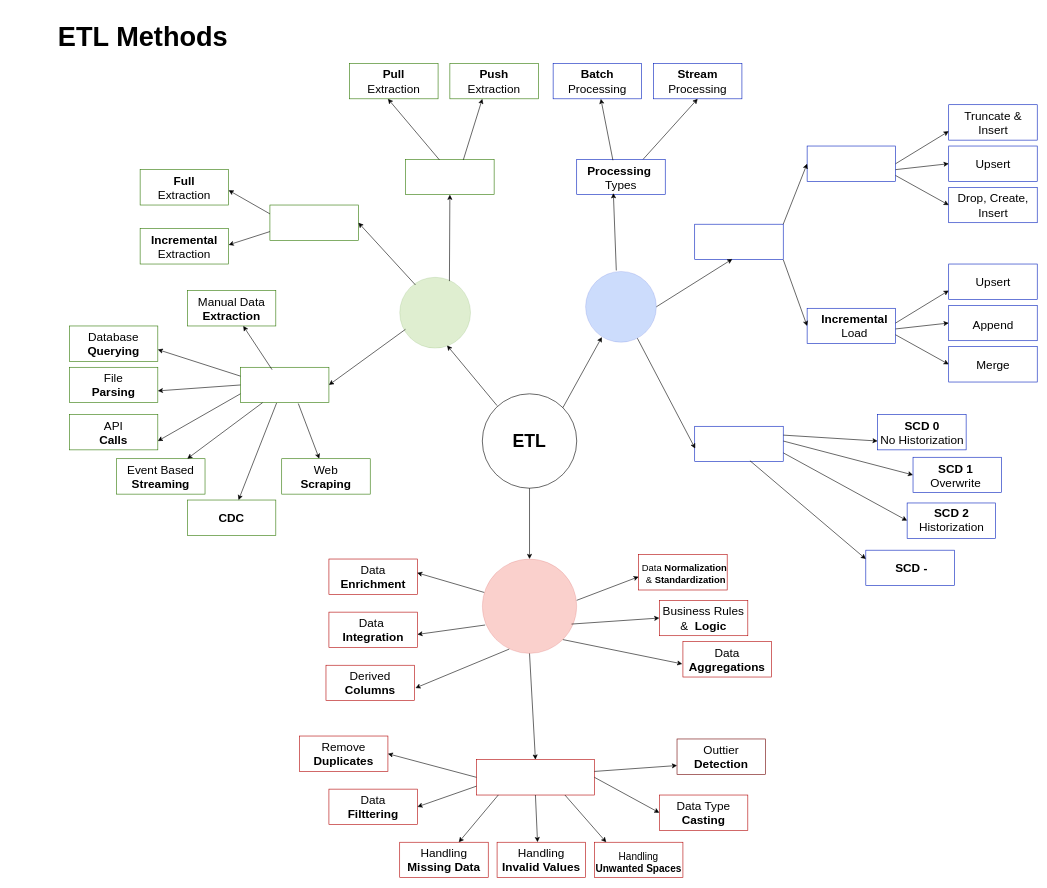
Some shapes in this 1047 by 888 pixel diagram are drawn without their labels. Each missing label, with the centre of its shape:
Data Cleansing: point 535,777
E xtraction: point 435,312
Extract Techniques: point 284,385
Extract Types: point 313,222
Extraction Methods: point 449,177
Full Load: point 851,163
L oad: point 620,306
Load Methods: point 738,242
Slowly Changing Dimension (SCD): point 738,444
T ransformation: point 529,605
